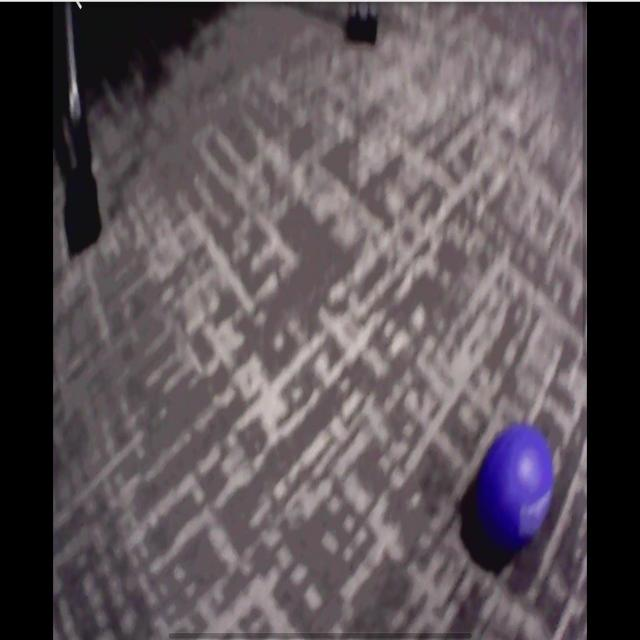ball: (484, 425, 554, 539)
